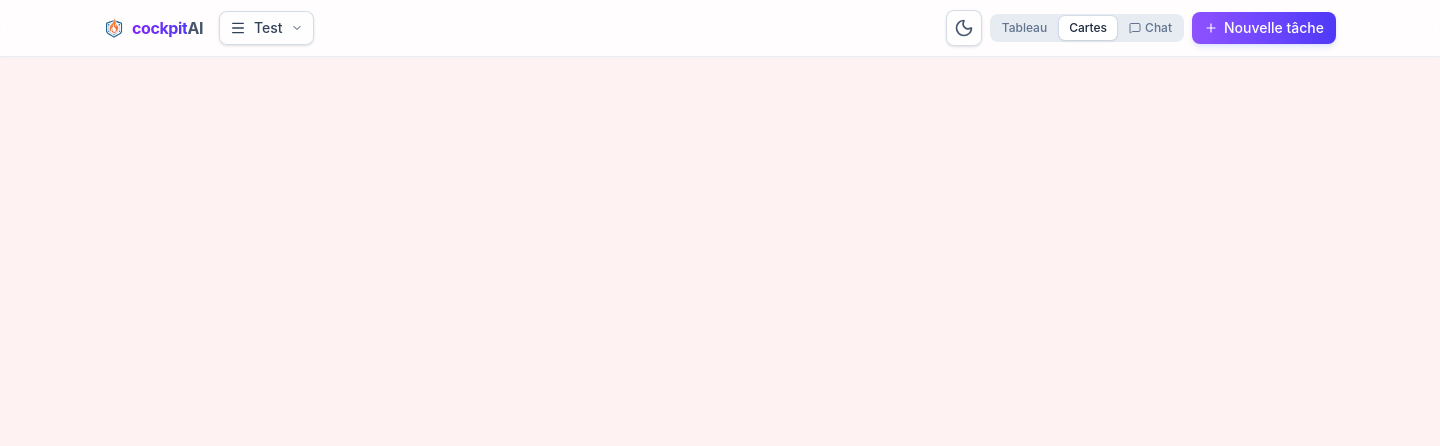
Scenario: AppHeader — "Nouveau chat" button › closes dropdown after clicking "Nouveau chat"
The image size is (1440, 446).
Click the button "Test" at x=266, y=28, box [219,11,314,45]
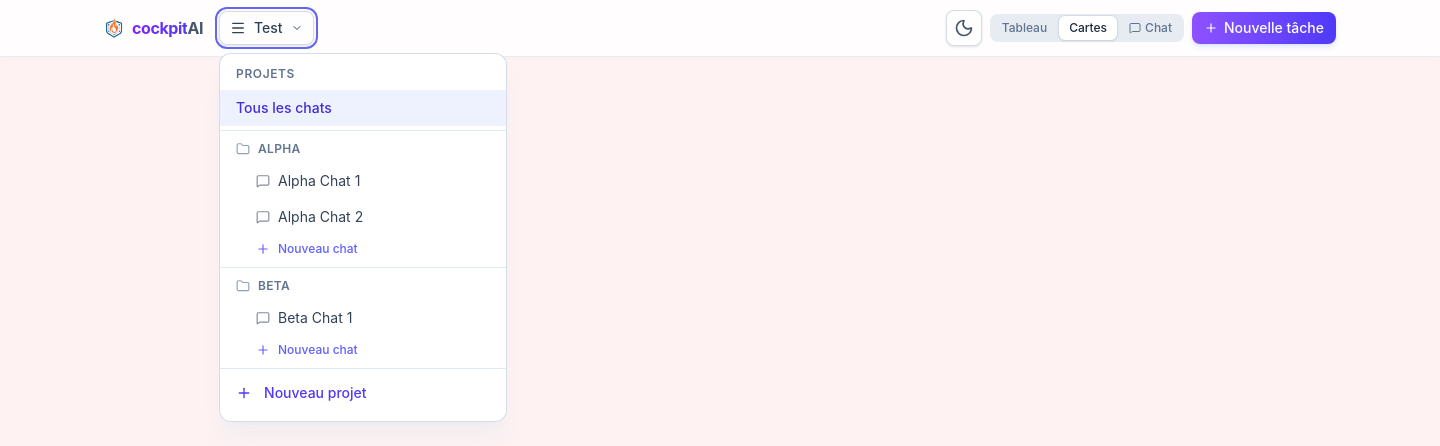
Click the 1st button "Nouveau chat" at x=318, y=248, box [220,235,506,263]
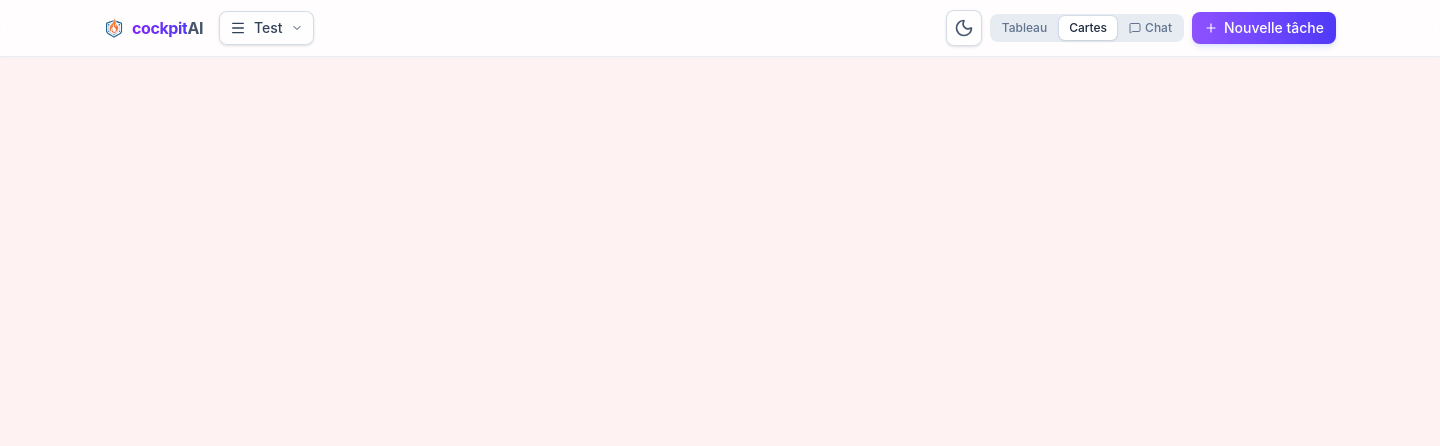
expect the button "Alpha Chat 1" is gone: met
